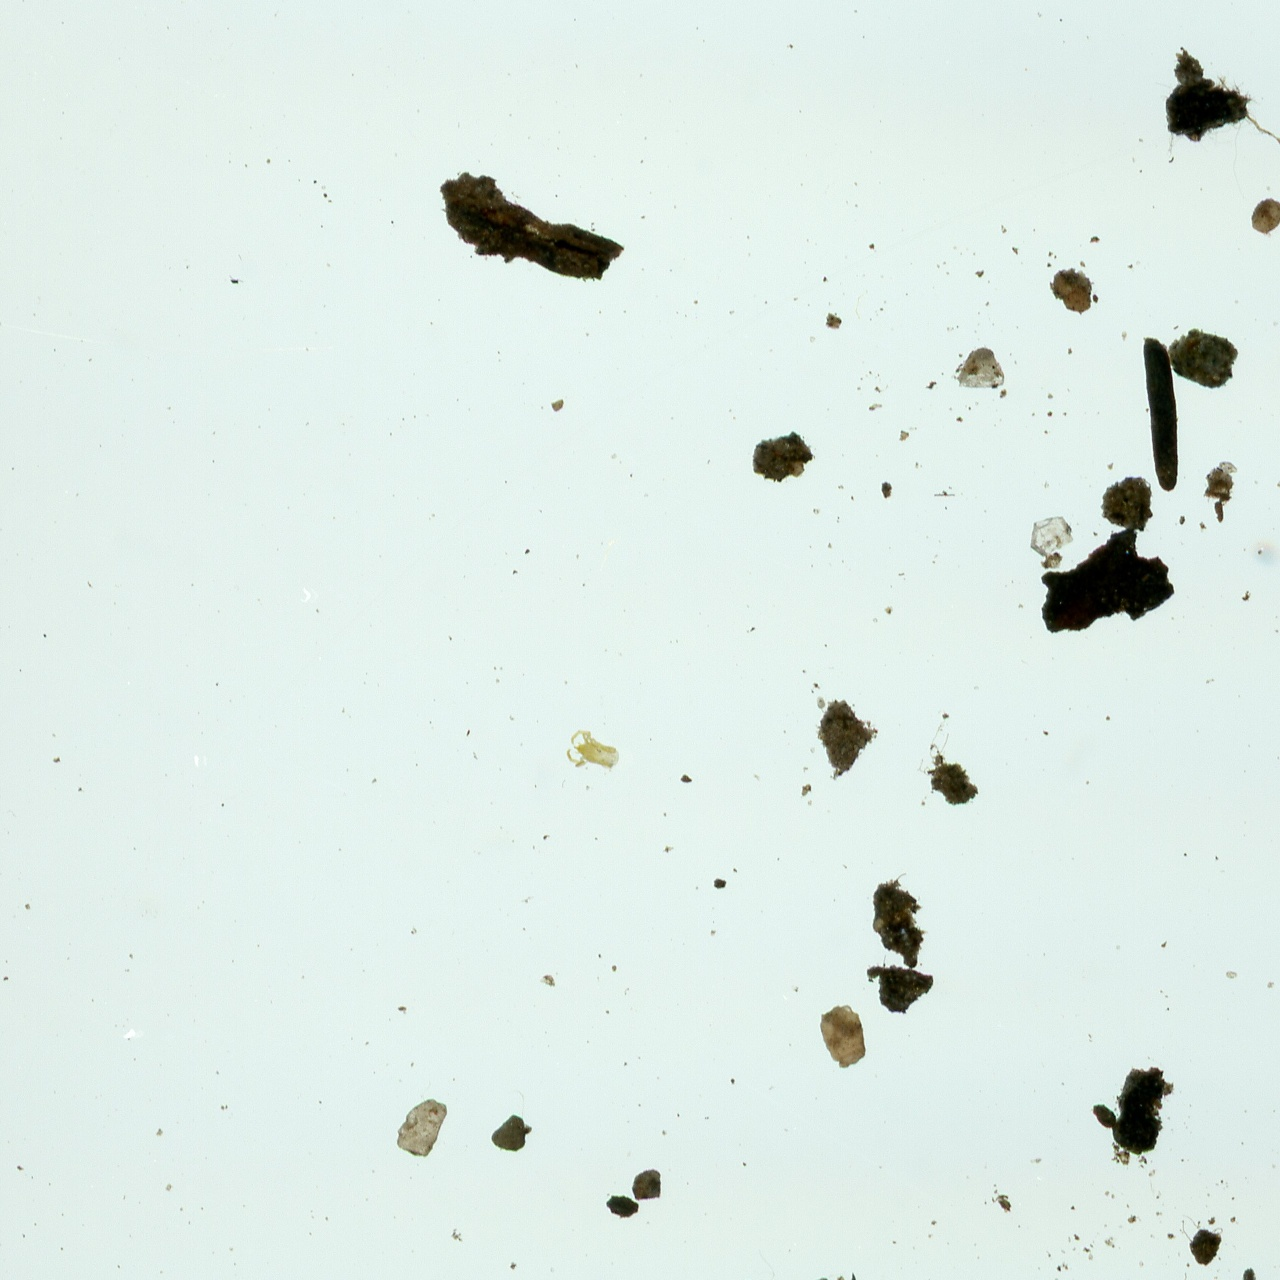arthropod: (563, 725, 622, 771)
